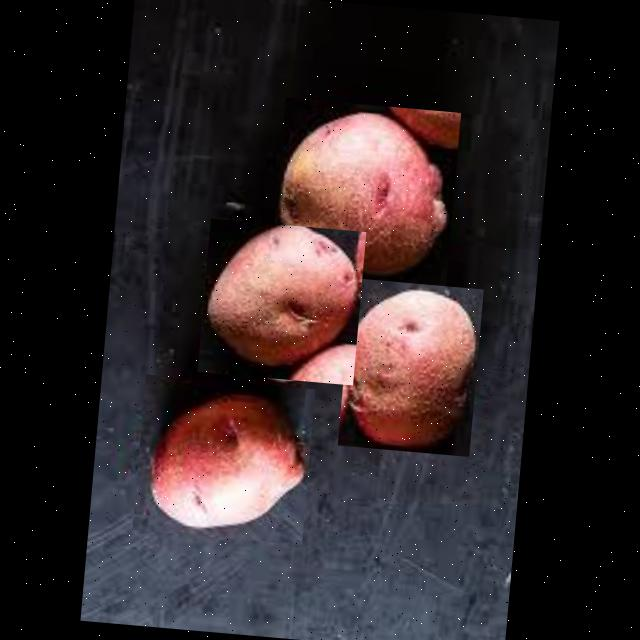Defected potato: (270, 96, 461, 287), (132, 373, 315, 543), (197, 217, 366, 384), (338, 276, 483, 456)
